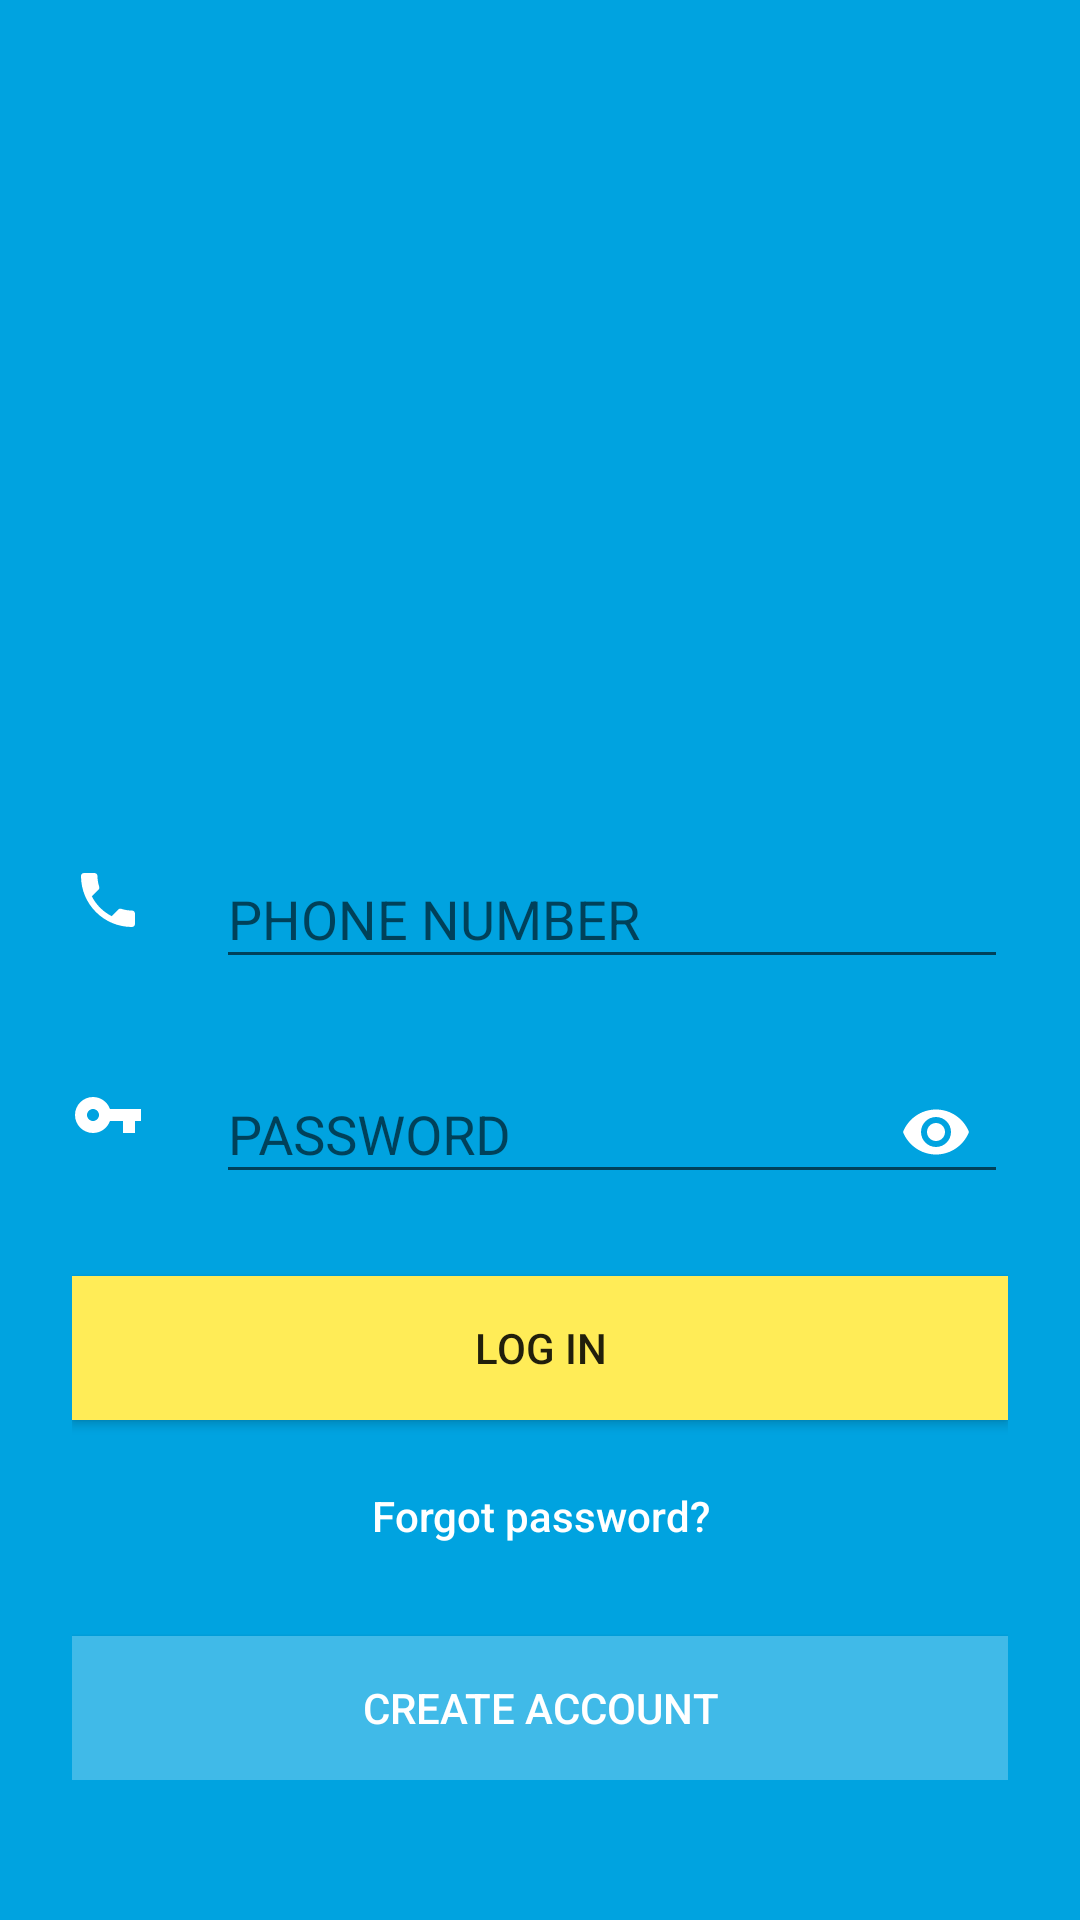

Screen size 1080x1920. Icon name, then its center in pixels as (x=x, y=y):
call: (x=108, y=900)
key: (x=108, y=1115)
